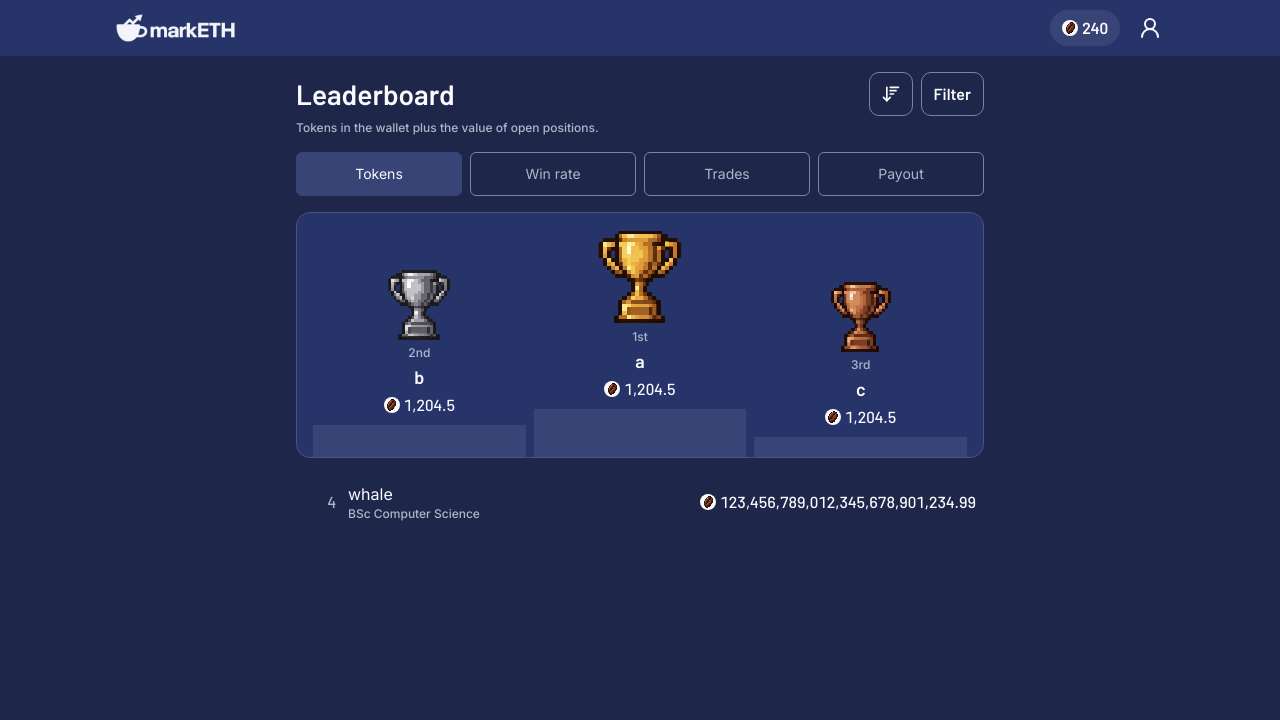
it: the statistics of a player › the three token figures are shown with every digit, as the strings that arrived
The width and height of the screenshot is (1280, 720).
Expected: the text "whale" is shown, top-left (348, 482), bottom-right (393, 506)
Click the button "whale".
click(344, 500)  # box top-left (296, 474), bottom-right (984, 530)
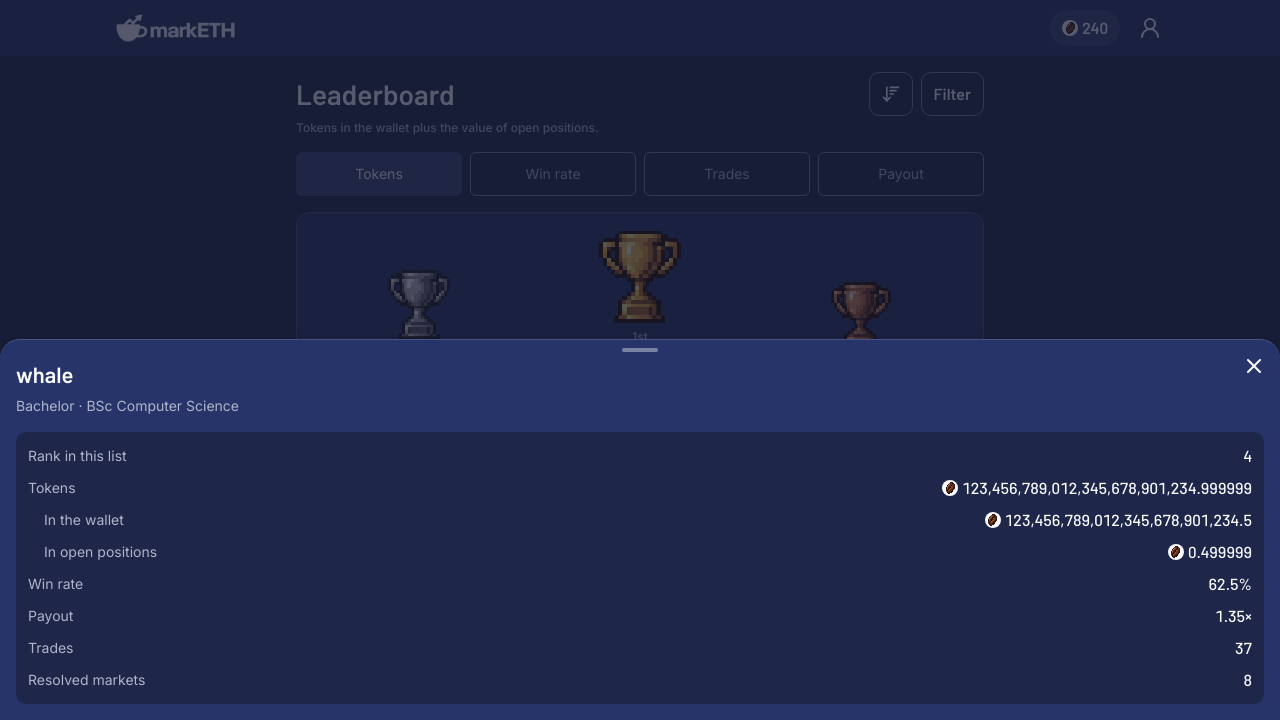
Result: the element showing "123,456,789,012,345,678,901,234.999999" is shown at top-left (942, 476), bottom-right (1252, 500)
Result: the element showing "123,456,789,012,345,678,901,234.5" is shown at top-left (985, 508), bottom-right (1252, 532)
Result: the element showing "0.499999" is shown at top-left (1168, 540), bottom-right (1252, 564)
